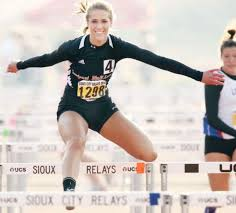person: (65, 6, 134, 69)
